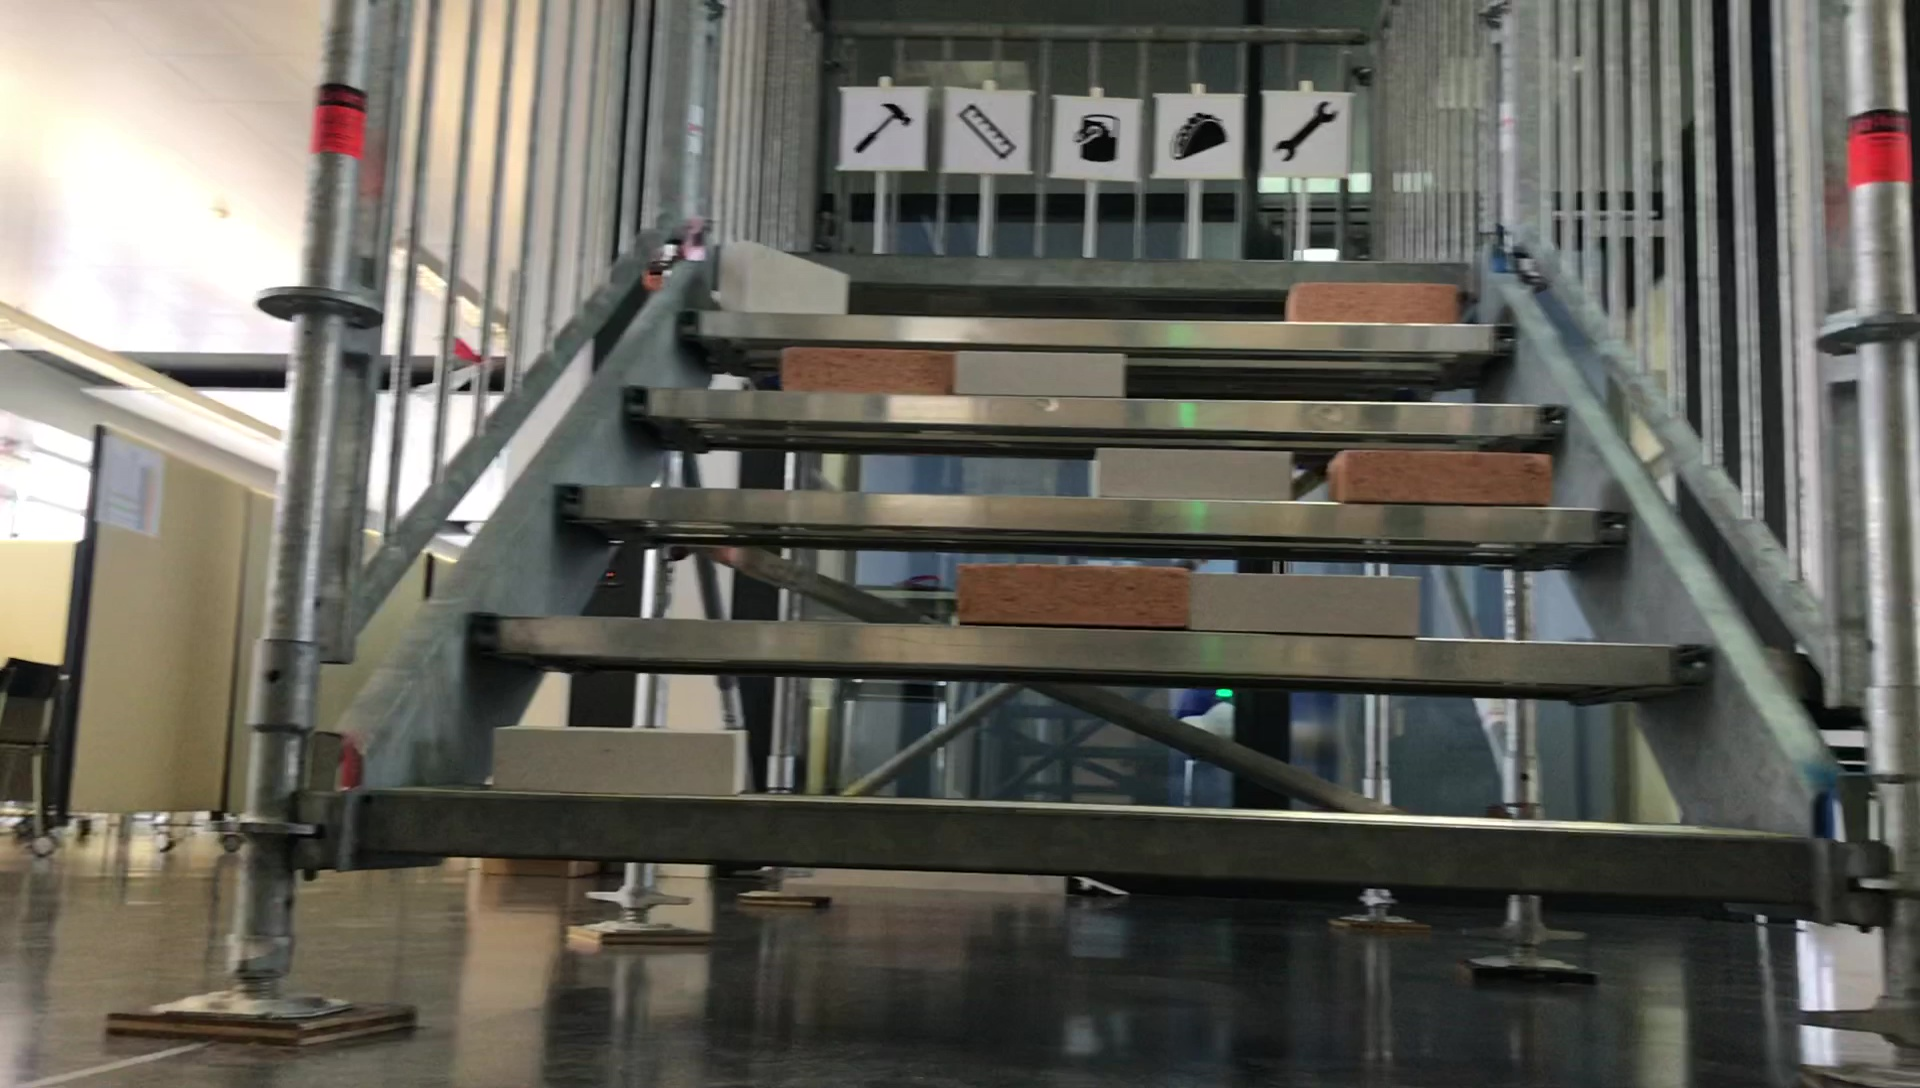brick: (487, 727, 754, 803), (1319, 444, 1547, 510), (949, 563, 1185, 622), (1189, 568, 1428, 624), (1092, 442, 1294, 504), (713, 237, 847, 322), (777, 338, 959, 392), (951, 348, 1129, 397), (1282, 282, 1466, 318)
bucket: (1067, 108, 1124, 165)
edge: (442, 611, 1717, 688), (343, 799, 1826, 857), (624, 385, 1577, 438), (555, 502, 1667, 531), (758, 255, 1466, 286), (691, 314, 1519, 338)
hammer: (848, 95, 914, 156)
ruler: (959, 98, 1013, 156)
stairs: (202, 0, 1920, 1029)
steps: (335, 244, 1834, 923)
taco: (1162, 109, 1233, 169)
wrench: (1278, 98, 1345, 156)
